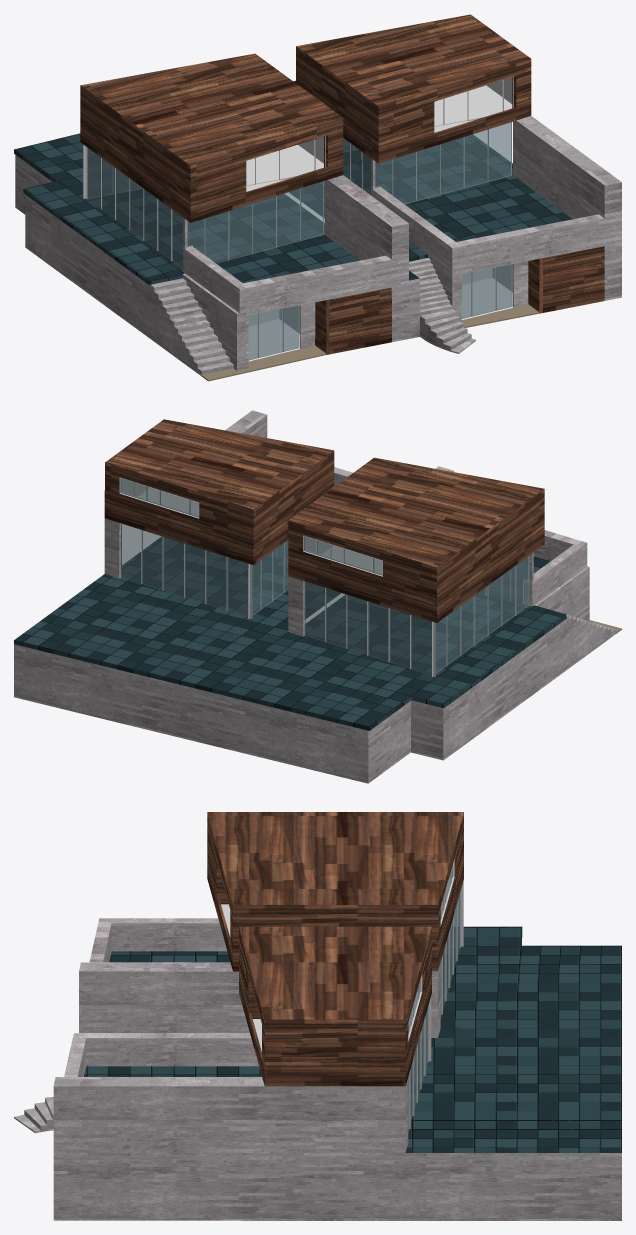
Rendered from building.glb.
3 views of the same model, one above another, from view 1: azimuth 30°, elevation 25°; view 2: azimuth 150°, elevation 25°; view 3: azimuth 270°, elevation 25° (orthographic). The views are drawn at different scales.
Visible parts, largest first — view 1: Object07, Box01, Object02, Object01, Object04, Shape03, Object09; view 2: Object02, Object07, Box01, Object01, Shape03, Object04; view 3: Box01, Object07, Object02, Object01, Shape03, Object04.
Boxes of the visible parts, x1,y1,x2,y2 form: Object07: (80,14,604,354); Box01: (15,116,621,375); Object02: (14,80,572,284); Object01: (87,122,512,360); Object04: (246,77,512,359); Shape03: (83,76,513,360); Object09: (201,304,539,381); Object02: (14,537,566,730); Object07: (104,419,544,622); Box01: (14,410,615,783); Object01: (120,478,529,675); Shape03: (120,477,529,676); Object04: (119,477,382,576); Box01: (14,918,621,1220); Object07: (207,812,463,1086); Object02: (84,926,621,1152); Object01: (408,865,460,1132); Shape03: (408,869,463,1129); Object04: (221,859,454,1051).
Bounding box in the file's own units: 17.15 × 7.11 × 19.49.
9 materials, 4 textured.
